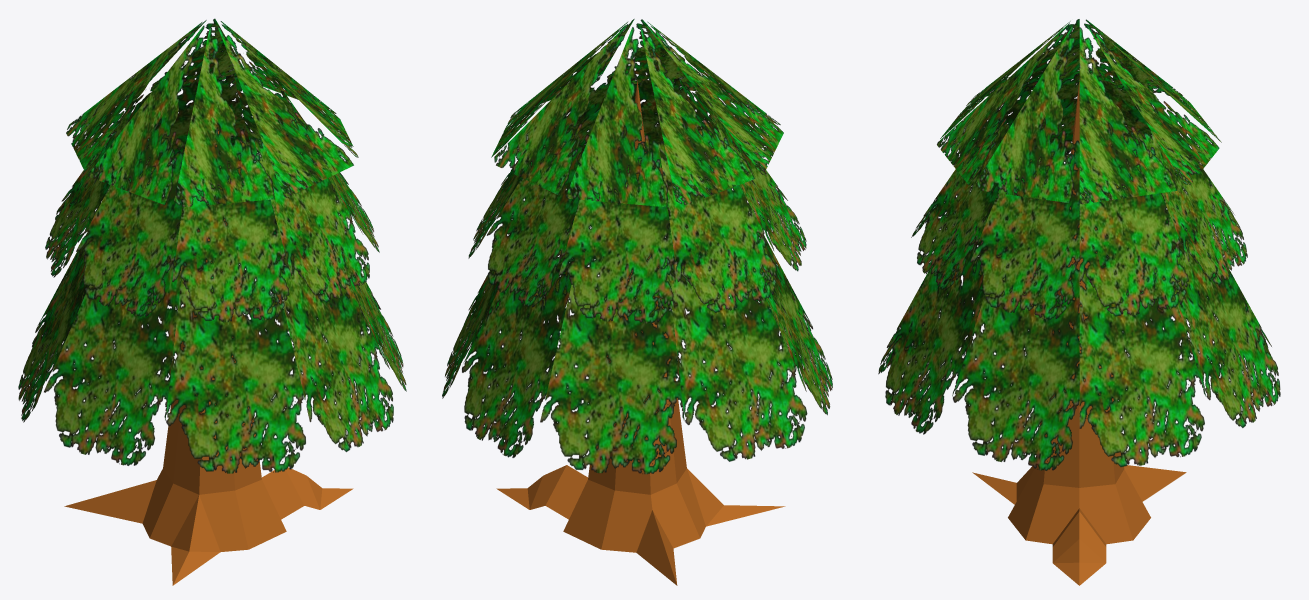
The model's file is sTree4.glb.
3 views of the same model, side by side, from view 1: azimuth 30°, elevation 25°; view 2: azimuth 150°, elevation 25°; view 3: azimuth 270°, elevation 25° (orthographic).
Visible parts, largest first — view 1: tree2; view 2: tree2; view 3: tree2.
Boxes of the visible parts, x1,y1,x2,y2 form: tree2: (18,18,406,585); tree2: (442,19,832,585); tree2: (878,19,1280,585).
Size of the model in its own units: 1.8 by 2.33 by 1.8.
2 materials, 1 textured.
